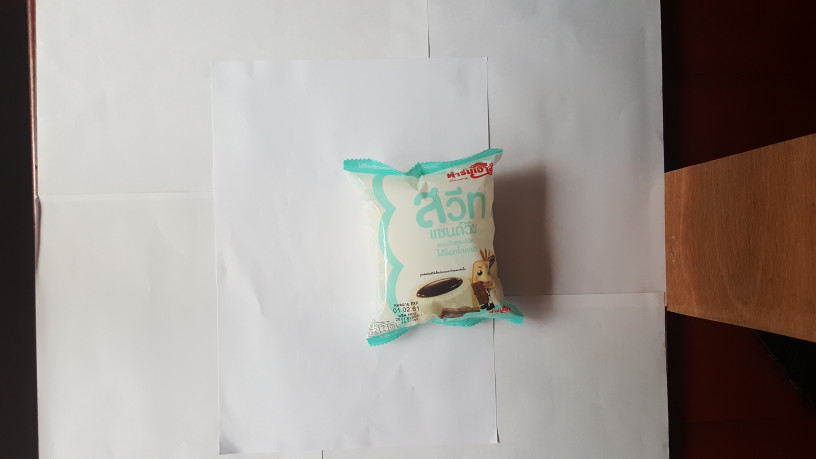farmhouse-sweetsandwich-chocolate: (338, 147, 531, 353)
